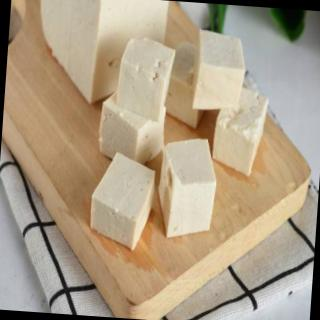Tahu: (34, 1, 178, 109), (157, 135, 224, 244), (96, 144, 156, 250), (93, 89, 172, 168), (210, 93, 277, 183), (189, 26, 252, 119), (115, 30, 179, 120), (163, 37, 213, 130)
